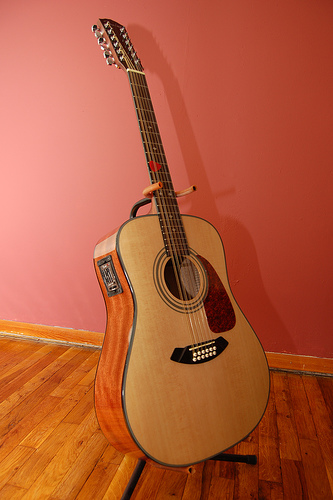guitar: (93, 20, 272, 469)
